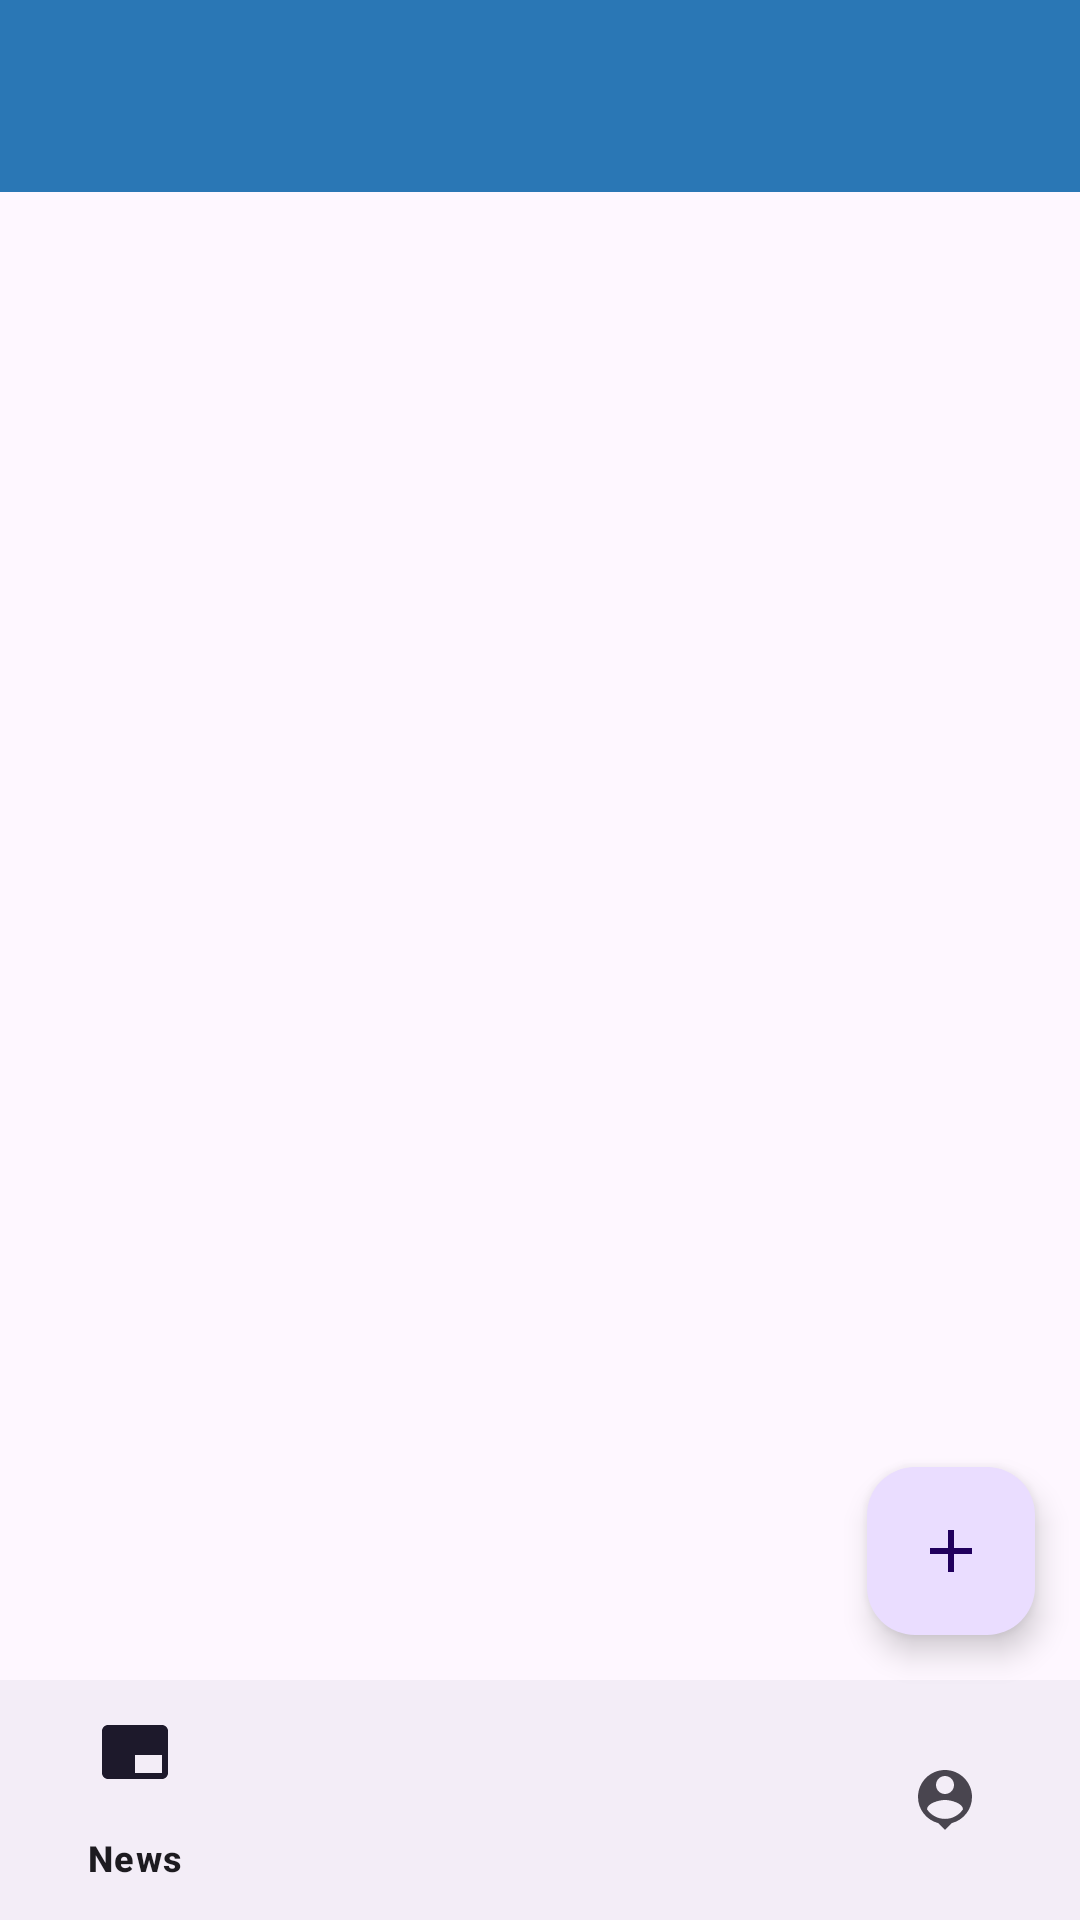

Where icons sit on this 1080w x 1920h app screen, as (x1, y1, x2, y2):
add: (867, 1467, 1035, 1635)
